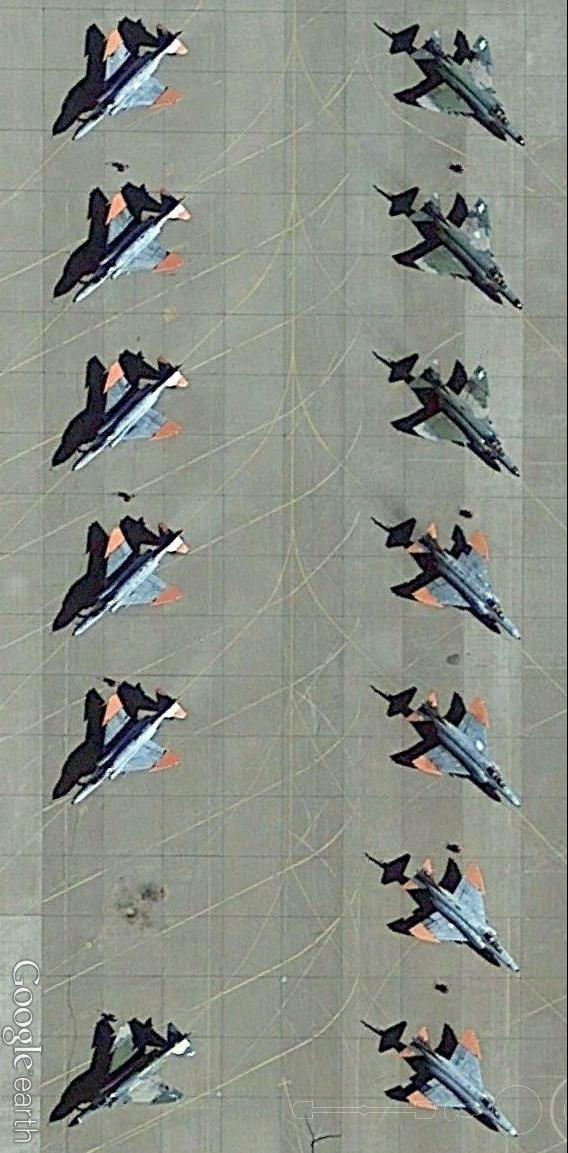plane: (385, 848, 525, 977), (61, 1009, 201, 1137), (373, 1018, 521, 1139), (391, 179, 525, 311), (385, 515, 522, 642), (390, 680, 521, 810), (395, 352, 524, 482), (64, 681, 192, 811), (67, 181, 196, 309), (68, 511, 193, 641), (399, 23, 528, 148), (67, 354, 188, 477), (69, 20, 186, 144)
